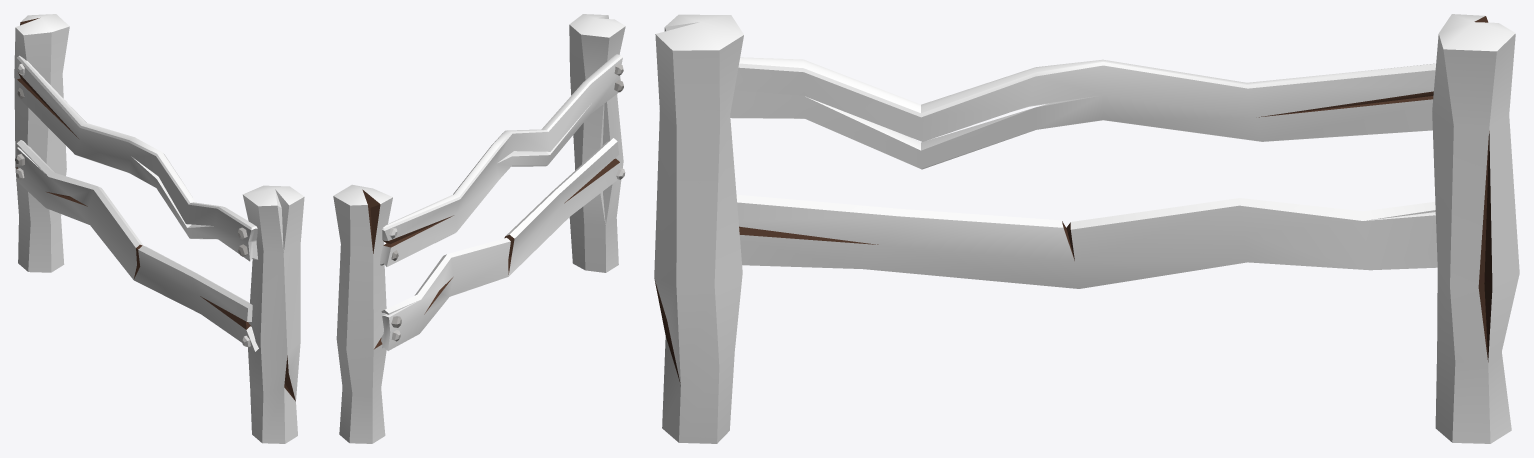
Rendered from valla4.fbx.
3 views of the same model, side by side, from view 1: azimuth 30°, elevation 25°; view 2: azimuth 150°, elevation 25°; view 3: azimuth 270°, elevation 25° (orthographic). The views are drawn at different scales.
Visible parts, largest first — view 1: vallaLarga; view 2: vallaLarga; view 3: vallaLarga.
Boxes of the visible parts, left/top/right/bottom form: vallaLarga: left=14, top=14, right=304, bottom=443; vallaLarga: left=333, top=14, right=625, bottom=443; vallaLarga: left=654, top=14, right=1519, bottom=443.
Bounding box in the file's own units: 140 × 611 × 1177.
